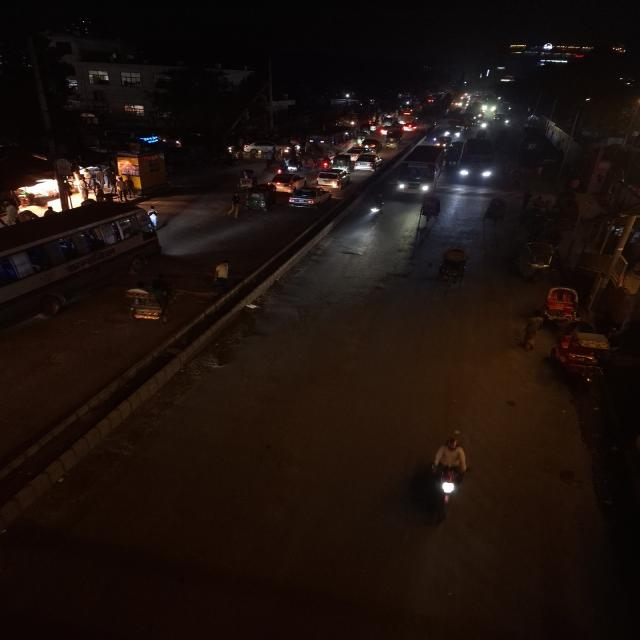bus: (1, 198, 164, 336), (394, 143, 446, 199), (456, 136, 497, 188)
car: (285, 186, 332, 209), (314, 168, 352, 190), (268, 172, 305, 191), (354, 153, 383, 172), (363, 139, 382, 153)
cng: (242, 185, 274, 212)
motorcycle: (425, 427, 475, 519), (363, 193, 388, 225)
pedestrian: (209, 258, 236, 292)
rickshaw: (520, 283, 614, 386), (120, 273, 180, 326), (514, 236, 562, 284), (432, 244, 473, 298), (478, 196, 510, 230), (415, 192, 445, 226), (232, 168, 260, 190)
